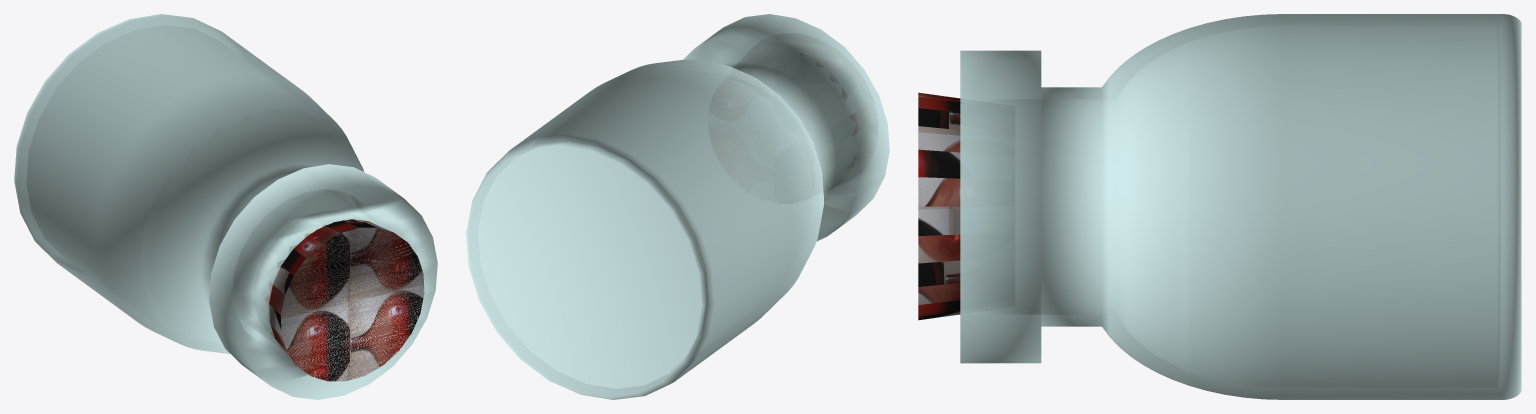
Rendered from model_align.obj.
3 renders of one model, left to right at view 1: azimuth 30°, elevation 25°; view 2: azimuth 150°, elevation 25°; view 3: azimuth 270°, elevation 25°, orthographic. The views are drawn at different scales.
Visible parts, largest first — view 1: mesh2_mesh2-geometry, mesh1_mesh1-geometry; view 2: mesh2_mesh2-geometry, mesh1_mesh1-geometry; view 3: mesh2_mesh2-geometry, mesh1_mesh1-geometry.
Boxes of the visible parts, x1,y1,x2,y2 form: mesh2_mesh2-geometry: (14,14,437,399); mesh1_mesh1-geometry: (265,219,424,381); mesh2_mesh2-geometry: (466,14,889,399); mesh1_mesh1-geometry: (800,53,858,184); mesh2_mesh2-geometry: (960,14,1521,399); mesh1_mesh1-geometry: (918,92,963,320).
Size of the model in its own units: 0.0772 by 0.0772 by 0.12.
